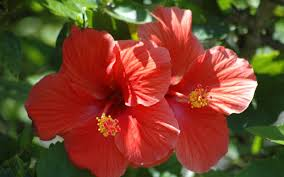hybiscus: (22, 27, 178, 177)
